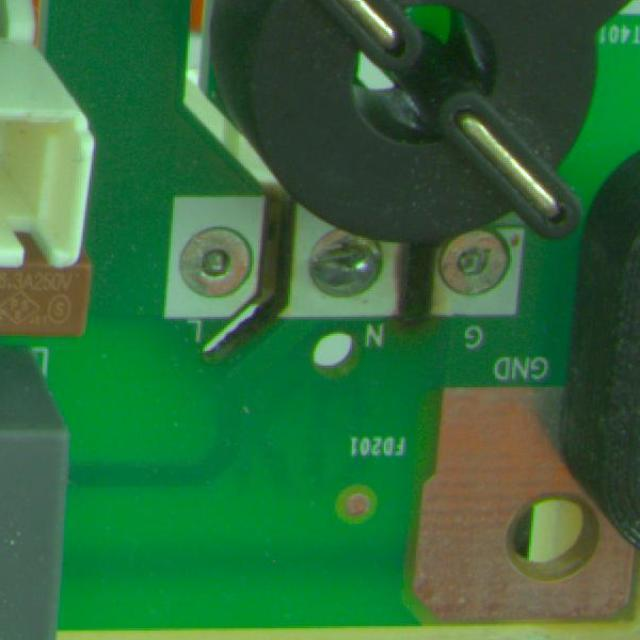Insufficient solder: (435, 230, 515, 310), (176, 217, 256, 294)
